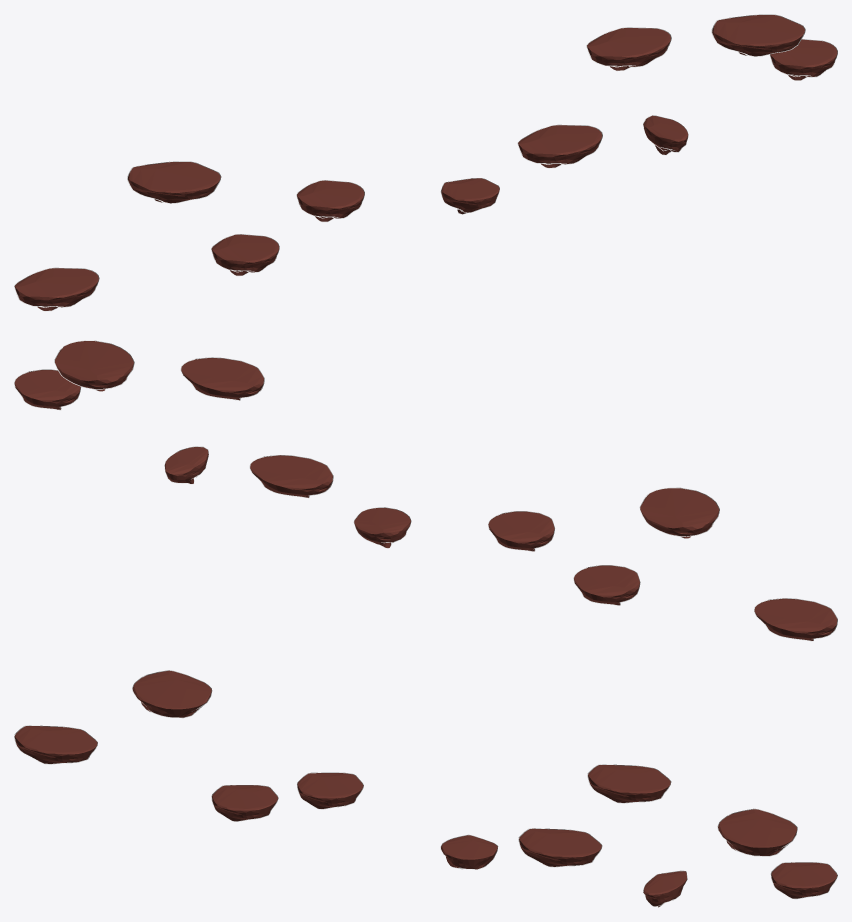
File: landscape2.gltf
3 renders of one model, top to bottom at view 1: azimuth 30°, elevation 25°; view 2: azimuth 150°, elevation 25°; view 3: azimuth 330°, elevation 25°, orthographic.
Parts seen in each view (by area): view 1: Cylinder.009, Cylinder.005, Cylinder.003, Cylinder.007, Cylinder.006, Cylinder, Cylinder.002, Cylinder.001, Cylinder.004, Cylinder.008; view 2: Cylinder.005, Cylinder.009, Cylinder.007, Cylinder.006, Cylinder.003, Cylinder, Cylinder.002, Cylinder.001, Cylinder.004, Cylinder.008; view 3: Cylinder.009, Cylinder.005, Cylinder.007, Cylinder.003, Cylinder.006, Cylinder, Cylinder.001, Cylinder.002, Cylinder.004, Cylinder.008.
Boxes of the visible parts, x1,y1,x2,y2 form: Cylinder.009: (711,14,805,56); Cylinder.005: (127,161,221,203); Cylinder.003: (517,124,602,168); Cylinder.007: (586,27,671,71); Cylinder.006: (14,267,99,311); Cylinder: (296,180,364,222); Cylinder.002: (211,234,279,276); Cylinder.001: (769,39,837,80); Cylinder.004: (440,178,499,214); Cylinder.008: (643,115,688,155); Cylinder.005: (639,487,719,538); Cylinder.009: (54,340,134,391); Cylinder.007: (180,357,264,400); Cylinder.006: (754,598,837,641); Cylinder.003: (249,455,333,498); Cylinder: (488,511,554,551); Cylinder.002: (573,565,640,605); Cylinder.001: (14,369,81,410); Cylinder.004: (353,507,411,548); Cylinder.008: (164,446,208,484); Cylinder.009: (717,808,797,856); Cylinder.005: (132,670,212,718); Cylinder.007: (587,764,671,803); Cylinder.003: (518,828,602,867); Cylinder.006: (14,725,97,764); Cylinder: (297,772,363,809); Cylinder.001: (770,862,837,899); Cylinder.002: (211,785,278,821); Cylinder.004: (440,834,498,869); Cylinder.008: (643,870,687,907).
Size of the model in its own units: 11.88 by 1.91 by 1.08.
